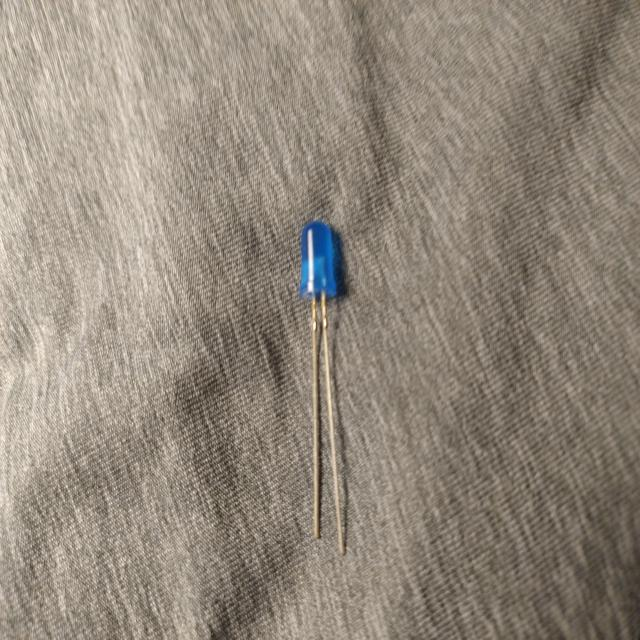blue_led: (298, 219, 339, 300)
